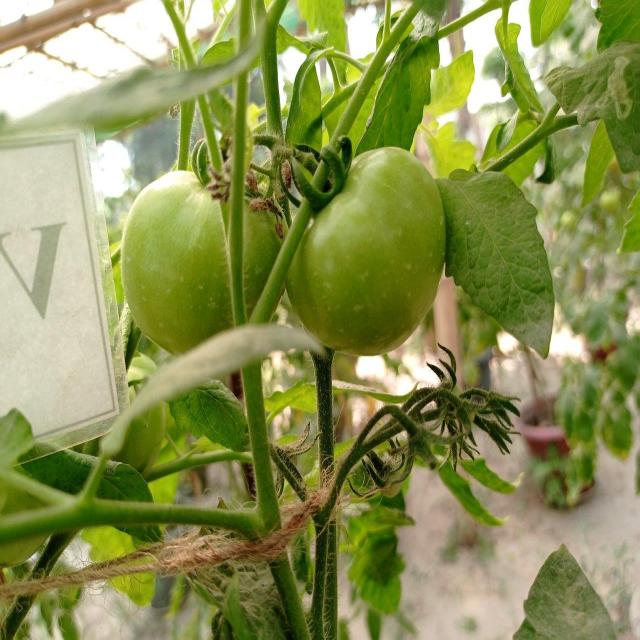Unripe: (282, 148, 447, 354), (123, 164, 284, 358)
